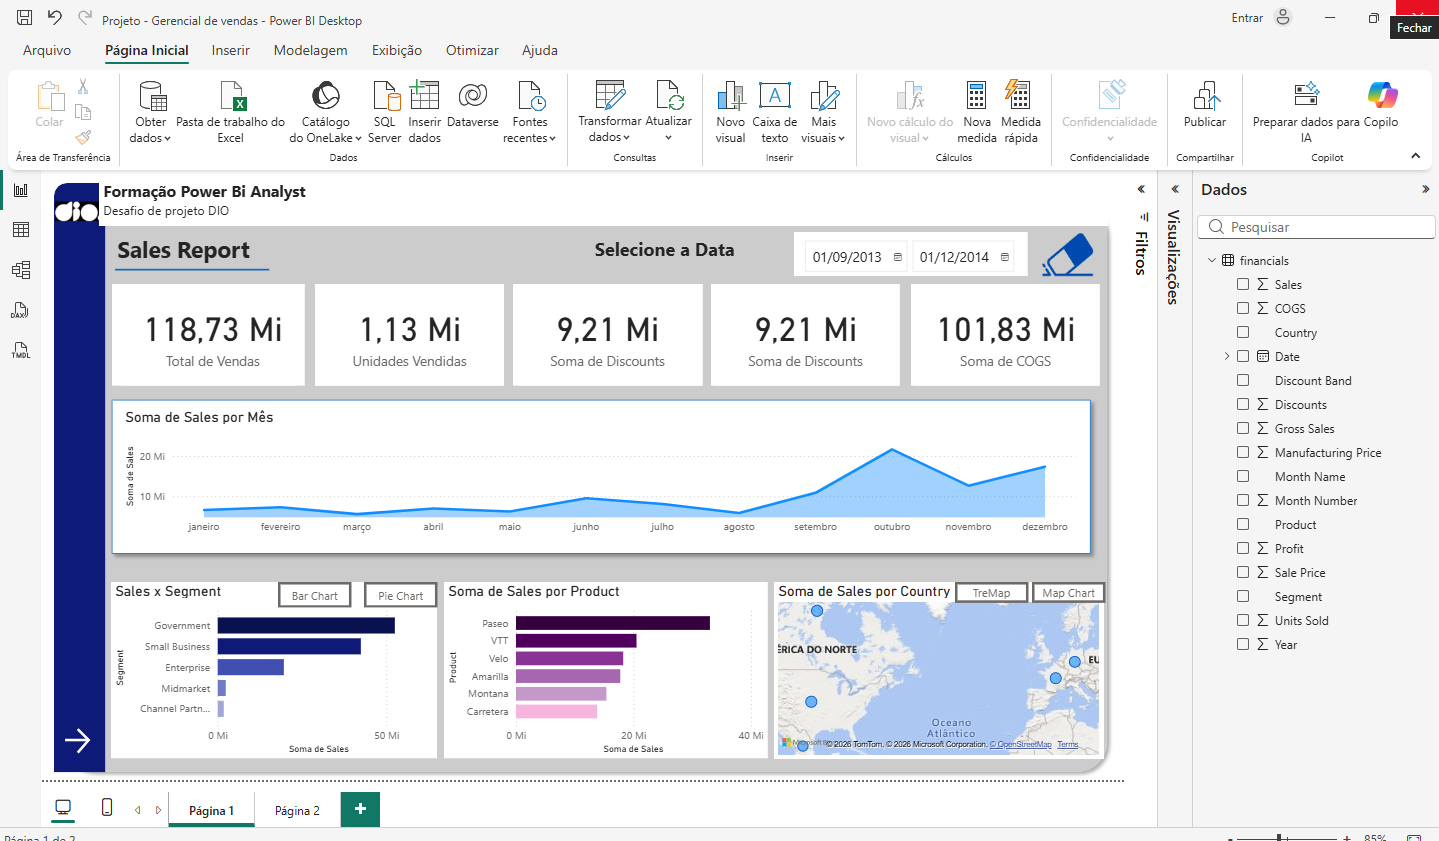

Layout of this report page (visuals, bound fields, positions):
{"tool":"powerbi","page":{"name":"Página 1","canvas":[1280,720],"ordinal":0},"visuals":[{"type":"shape","box":[17.5,31.2,1250,688.8],"z":0},{"type":"image","title":"Borrracha Clean","box":[1170.9,64.9,82.7,69.8],"z":0,"group":"g2"},{"type":"shape","box":[83.9,135.1,217.1,120.3],"z":0,"group":"g1"},{"type":"shape","box":[14.9,14.9,60.8,695.9],"z":1000},{"type":"slicer","fields":{"Values":["financials.Date"]},"box":[888.6,72.6,275.7,51.9],"z":1000,"group":"g2"},{"type":"shape","box":[795.5,135.1,217.1,120.3],"z":1000,"group":"g1"},{"type":"image","title":"Logo Dio","box":[11.5,15.3,67.6,67.6],"z":2000},{"type":"textbox","box":[598.6,72.6,275.7,51.9],"z":2000,"group":"g2"},{"type":"shape","box":[1031.6,135.1,217.1,120.3],"z":2000,"group":"g1"},{"type":"shape","box":[68.7,15.4,1192.4,50.9],"z":3000},{"type":"actionButton","box":[1170.8,70.1,83.2,64.5],"z":3000,"group":"g2"},{"type":"shape","box":[564.1,135.1,217.1,120.3],"z":3000,"group":"g1"},{"type":"textbox","box":[68.7,7.1,545.9,58],"z":4000},{"type":"shape","box":[323.1,135.1,223,120.3],"z":4000,"group":"g1"},{"type":"group","id":"g1","title":"Cartões","box":[83.9,135.1,1164.9,120.3],"z":5000},{"type":"shape","box":[87.9,82.8,182.1,70],"z":6000},{"type":"textbox","box":[85,70,185,46.2],"z":7000},{"type":"shape","box":[73.9,262.6,1174.2,200.2],"z":8000},{"type":"shape","box":[85.1,486.5,382.4,208.1],"z":9000},{"type":"shape","box":[475.7,486.5,382.4,208.1],"z":10000},{"type":"shape","box":[866.2,486.5,382.4,208.1],"z":11000},{"type":"areaChart","fields":{"Category":["financials.Date.Variation.Hierarquia de datas.Mês"],"Y":["Sum(financials. Sales)"]},"box":[94.3,280.5,1132.1,158.1],"z":12000},{"type":"card","fields":{"Values":["Sum(financials. Sales)"]},"box":[94.3,135.1,216.7,119.8],"z":13000},{"type":"card","fields":{"Values":["Sum(financials.Units Sold)"]},"box":[323.8,135.1,223.1,119.8],"z":14000},{"type":"card","fields":{"Values":["Sum(financials.Discounts)"]},"box":[557.1,135.1,223.1,119.8],"z":15000},{"type":"card","fields":{"Values":["Sum(financials.Discounts)"]},"box":[791.7,135.1,223.1,119.8],"z":16000},{"type":"card","fields":{"Values":["Sum(financials.COGS)"]},"box":[1027.6,135.1,223.1,119.8],"z":17000},{"type":"clusteredBarChart","title":" Sales x Segment","fields":{"Y":["Sum(financials. Sales)"],"Category":["financials.Segment"]},"box":[82.9,487,385,207.8],"z":18000},{"type":"clusteredBarChart","fields":{"Y":["Sum(financials. Sales)"],"Category":["financials.Product"]},"box":[475.5,487,382.5,207.8],"z":19000},{"type":"map","fields":{"Category":["financials.Country"],"Size":["Sum(financials. Sales)"]},"box":[865.4,486.6,389.3,208.7],"z":20000},{"type":"group","id":"g2","title":"Filtro por Data","box":[598.6,64.9,655.4,69.8],"z":21000},{"type":"actionButton","box":[22.3,654.3,45.7,39.9],"z":22000},{"type":"actionButton","title":"Botão-Bar","box":[280.3,486.6,86.8,30.5],"z":23000},{"type":"actionButton","title":"Botão-Pie","box":[381.1,486.6,86.8,30.5],"z":24000},{"type":"actionButton","title":"Tremap","box":[1078.8,486.6,86.8,24.6],"z":25000},{"type":"actionButton","title":"Map","box":[1170.3,486.6,86.8,24.6],"z":26000}]}

Visuals, with their boxes on the page's 1280x720 design canvas (x1, y1, x2, y2). These are canvas units, not pixel positions in the 1439x841 screenshot, which may show the page scaled, cropped or inside an application window:
shape: crop(18, 31, 1268, 720)
"Borrracha Clean" image: crop(1171, 65, 1254, 135)
shape: crop(84, 135, 301, 255)
shape: crop(15, 15, 76, 711)
slicer - financials.Date: crop(889, 73, 1164, 124)
shape: crop(796, 135, 1013, 255)
"Logo Dio" image: crop(12, 15, 79, 83)
textbox: crop(599, 73, 874, 124)
shape: crop(1032, 135, 1249, 255)
shape: crop(69, 15, 1261, 66)
actionButton: crop(1171, 70, 1254, 135)
shape: crop(564, 135, 781, 255)
textbox: crop(69, 7, 615, 65)
shape: crop(323, 135, 546, 255)
"Cartões" group: crop(84, 135, 1249, 255)
shape: crop(88, 83, 270, 153)
textbox: crop(85, 70, 270, 116)
shape: crop(74, 263, 1248, 463)
shape: crop(85, 486, 468, 695)
shape: crop(476, 486, 858, 695)
shape: crop(866, 486, 1249, 695)
areaChart - financials.Date.Variation.Hierarquia de datas.Mês x Sum(financials. Sales): crop(94, 280, 1226, 439)
card - Sum(financials. Sales): crop(94, 135, 311, 255)
card - Sum(financials.Units Sold): crop(324, 135, 547, 255)
card - Sum(financials.Discounts): crop(557, 135, 780, 255)
card - Sum(financials.Discounts): crop(792, 135, 1015, 255)
card - Sum(financials.COGS): crop(1028, 135, 1251, 255)
" Sales x Segment" clusteredBarChart: crop(83, 487, 468, 695)
clusteredBarChart - Sum(financials. Sales) x financials.Product: crop(476, 487, 858, 695)
map - financials.Country x Sum(financials. Sales): crop(865, 487, 1255, 695)
"Filtro por Data" group: crop(599, 65, 1254, 135)
actionButton: crop(22, 654, 68, 694)
"Botão-Bar" actionButton: crop(280, 487, 367, 517)
"Botão-Pie" actionButton: crop(381, 487, 468, 517)
"Tremap" actionButton: crop(1079, 487, 1166, 511)
"Map" actionButton: crop(1170, 487, 1257, 511)
